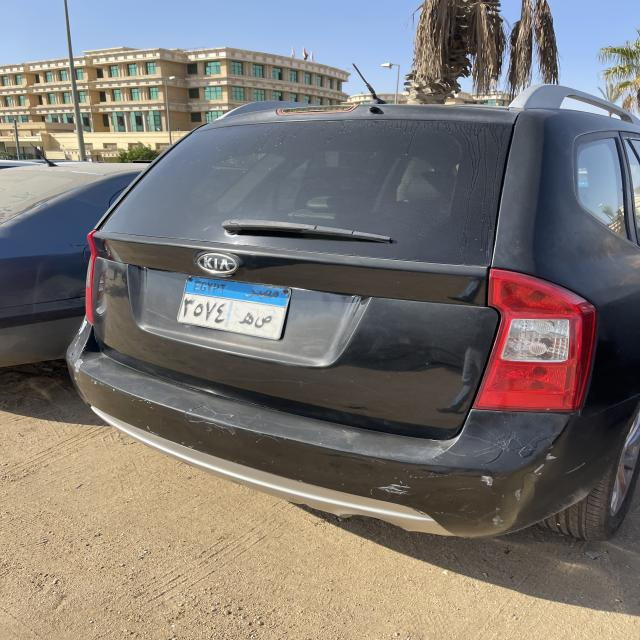License Plate: (176, 276, 291, 339)
